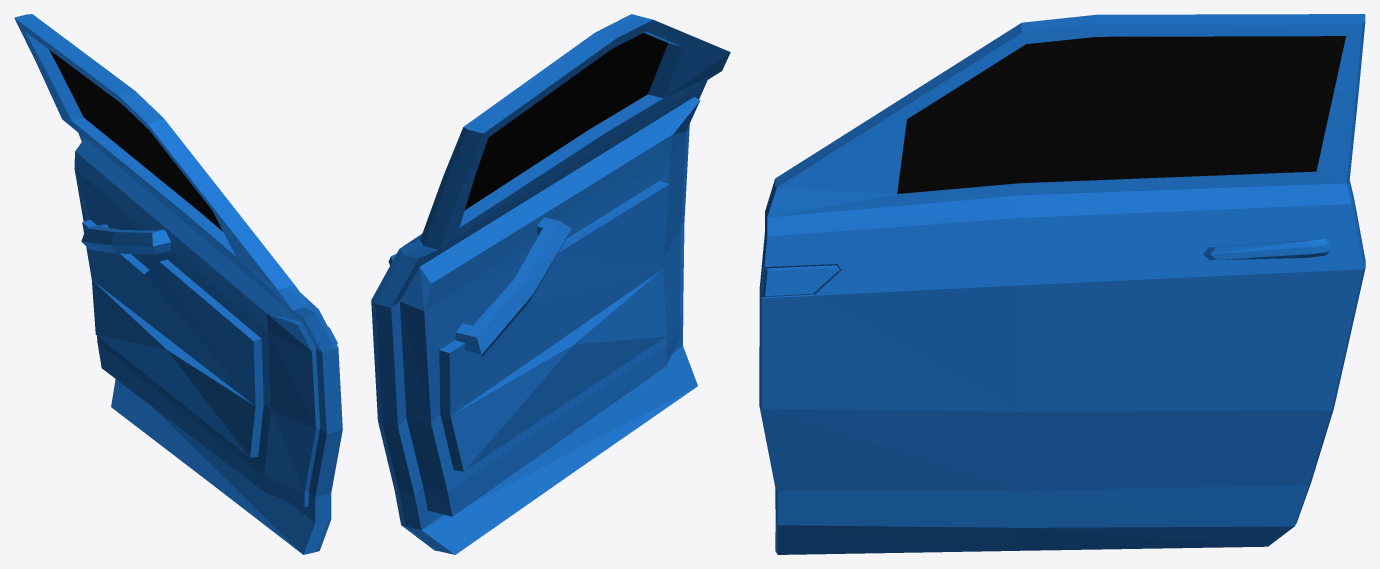
File: SM_detail5.fbx
3 views of the same model, side by side, from view 1: azimuth 30°, elevation 25°; view 2: azimuth 150°, elevation 25°; view 3: azimuth 270°, elevation 25° (orthographic). The views are drawn at different scales.
Parts seen in each view (by area): view 1: detail5; view 2: detail5; view 3: detail5.
Boxes of the visible parts, x1=… form: detail5: x1=14, y1=14, x2=342, y2=554; detail5: x1=371, y1=14, x2=730, y2=554; detail5: x1=759, y1=14, x2=1365, y2=554.
Size of the model in its own units: 34.63 by 130 by 144.
